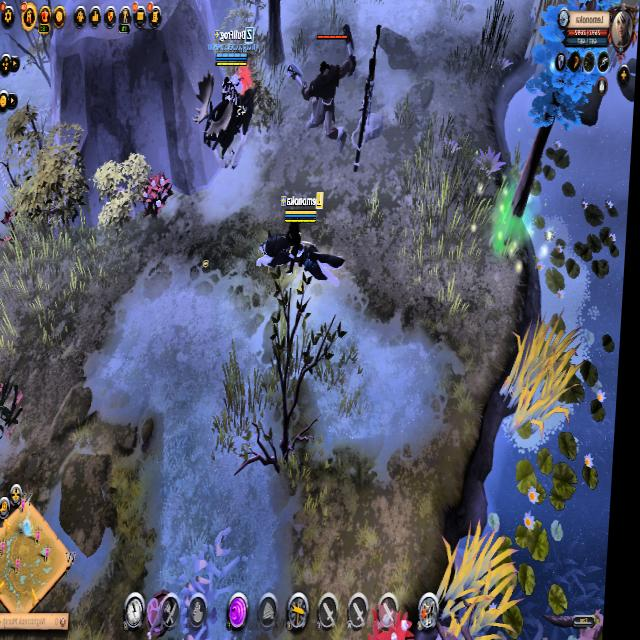fiber tier 5: (142, 170, 177, 221)
